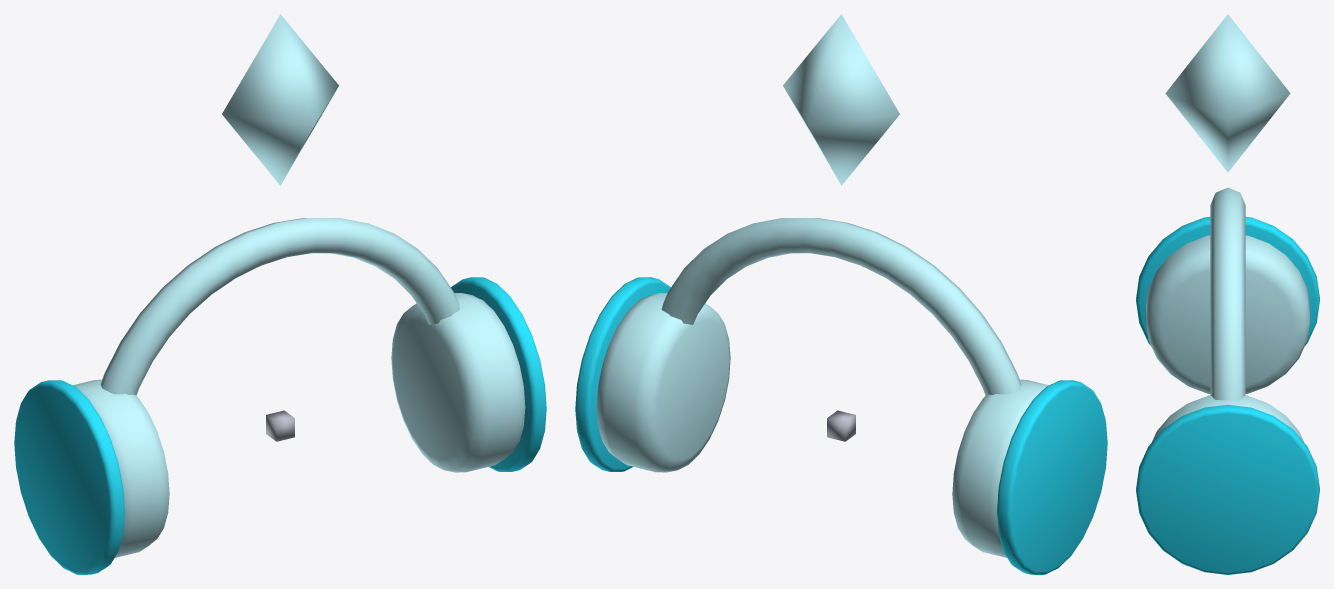
Rendered from Precious.fbx.
The picture shows the model from 3 angles, left to right: view 1: azimuth 30°, elevation 25°; view 2: azimuth 150°, elevation 25°; view 3: azimuth 270°, elevation 25°; orthographic projection. The views are drawn at different scales.
Visible parts, largest first — view 1: Crystal, Pulse_Ring-1, Float_Spin_Diamond, Pulse_Ring1, KitOrigin; view 2: Crystal, Pulse_Ring-1, Float_Spin_Diamond, Pulse_Ring1, KitOrigin; view 3: Pulse_Ring1, Crystal, Float_Spin_Diamond, Pulse_Ring-1.
Part boxes in pixels (x1,y1,x2,y2): Crystal: [73, 218, 525, 557]; Pulse_Ring-1: [14, 380, 124, 574]; Float_Spin_Diamond: [222, 14, 338, 185]; Pulse_Ring1: [451, 277, 546, 471]; KitOrigin: [266, 410, 294, 441]; Crystal: [596, 218, 1048, 557]; Pulse_Ring-1: [997, 380, 1107, 574]; Float_Spin_Diamond: [783, 14, 899, 185]; Pulse_Ring1: [575, 277, 670, 471]; KitOrigin: [827, 410, 855, 441]; Pulse_Ring1: [1136, 405, 1319, 574]; Crystal: [1146, 187, 1309, 441]; Float_Spin_Diamond: [1165, 14, 1290, 172]; Pulse_Ring-1: [1136, 217, 1319, 345].
Bounding box in the file's own units: 2.38 × 2.62 × 0.94.
